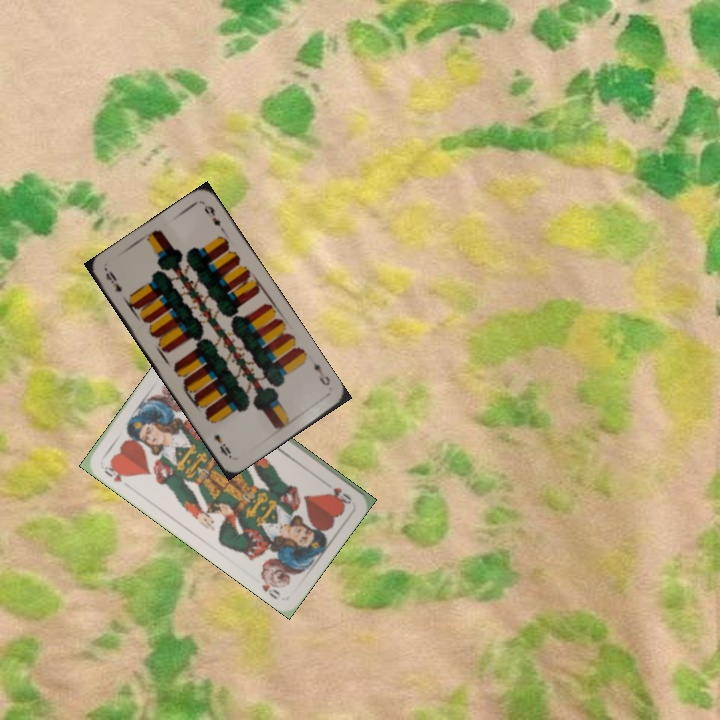E9: (309, 359, 333, 388), (102, 267, 124, 295)
HO: (100, 460, 131, 485), (329, 483, 354, 507)
